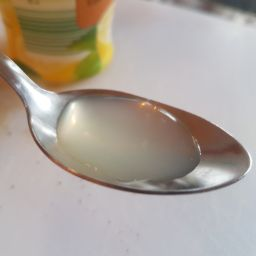Lime juice: (62, 86, 200, 197), (82, 112, 177, 166)
